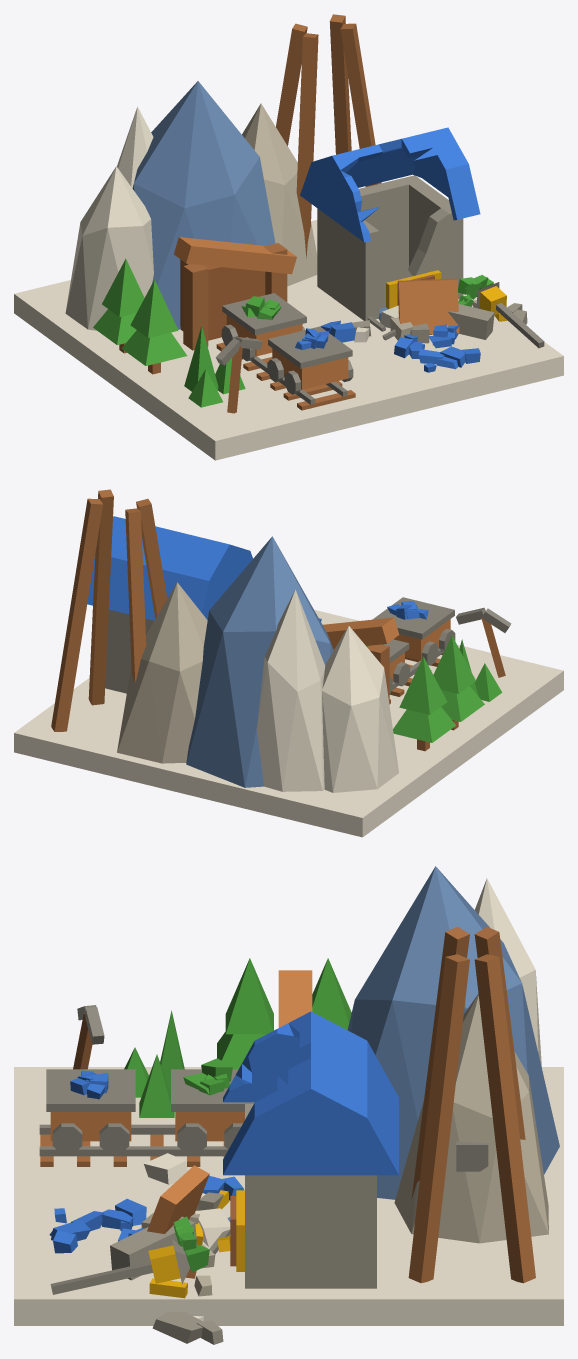
Rendered from mine_t3_v3_dmg1.glb.
3 renders of one model, top to bottom at view 1: azimuth 30°, elevation 25°; view 2: azimuth 150°, elevation 25°; view 3: azimuth 270°, elevation 25°, orthographic. The views are drawn at different scales.
Parts seen in each view (by area): view 1: mine_t3_v3_dmg1; view 2: mine_t3_v3_dmg1; view 3: mine_t3_v3_dmg1.
Boxes of the visible parts, x1=… form: mine_t3_v3_dmg1: x1=14, y1=14, x2=563, y2=460; mine_t3_v3_dmg1: x1=14, y1=489, x2=563, y2=837; mine_t3_v3_dmg1: x1=14, y1=866, x2=563, y2=1344.
Size of the model in its own units: 0.818 by 0.5018 by 0.75.
1 material, 1 textured.
